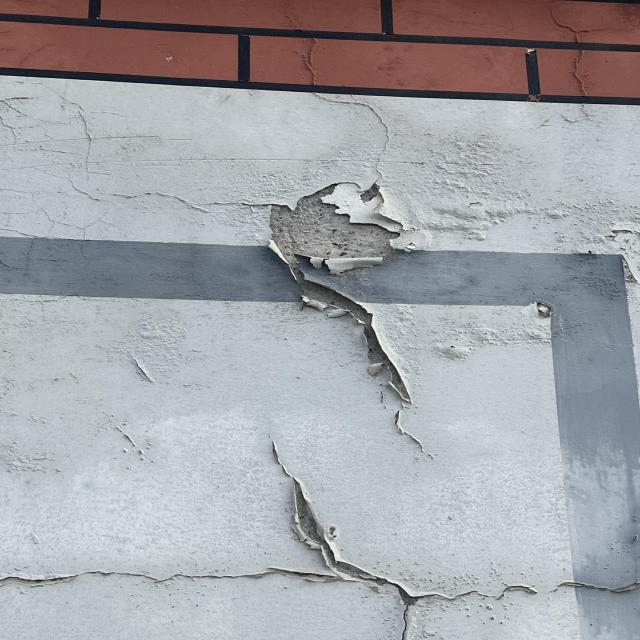crack: (5, 163, 272, 232)
spalling: (4, 446, 640, 632), (271, 178, 412, 410)
